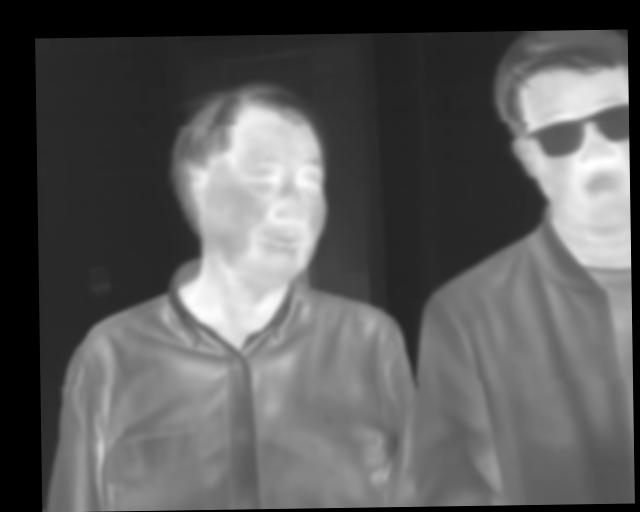face: (170, 78, 328, 282), (495, 30, 629, 236)
